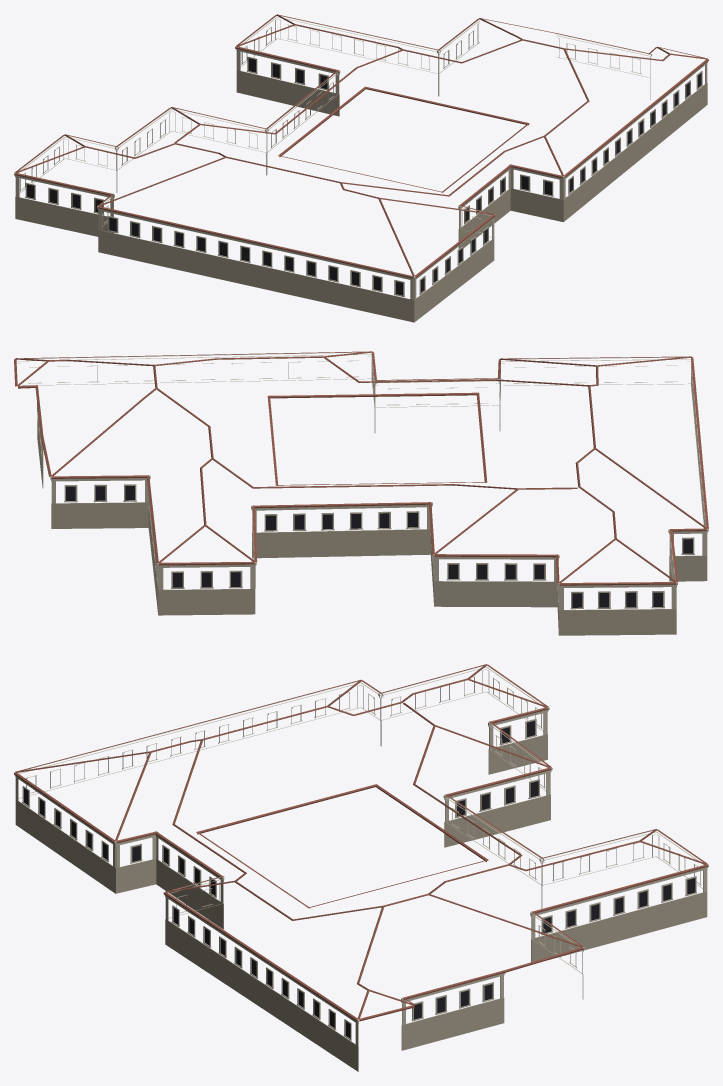
The picture shows the model from 3 angles, top to bottom: view 1: azimuth 30°, elevation 25°; view 2: azimuth 150°, elevation 25°; view 3: azimuth 270°, elevation 25°; orthographic projection. The views are drawn at different scales.
Parts seen in each view (by area): view 1: detail; view 2: detail; view 3: detail.
Boxes of the visible parts, bbox=[...] form: detail: bbox=[14, 14, 708, 322]; detail: bbox=[14, 351, 708, 635]; detail: bbox=[14, 664, 708, 1071].
Bounding box in the file's own units: 108 × 13.01 × 88.71.
